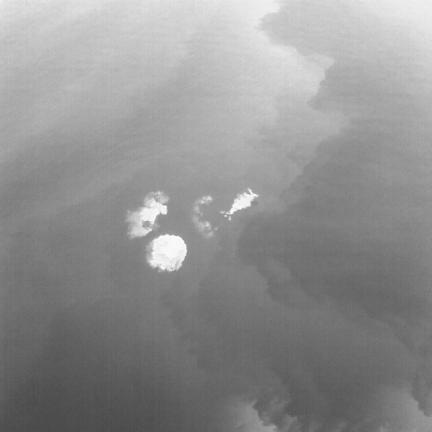flukeprints: (128, 192, 168, 236), (146, 235, 186, 271), (221, 188, 258, 219)
